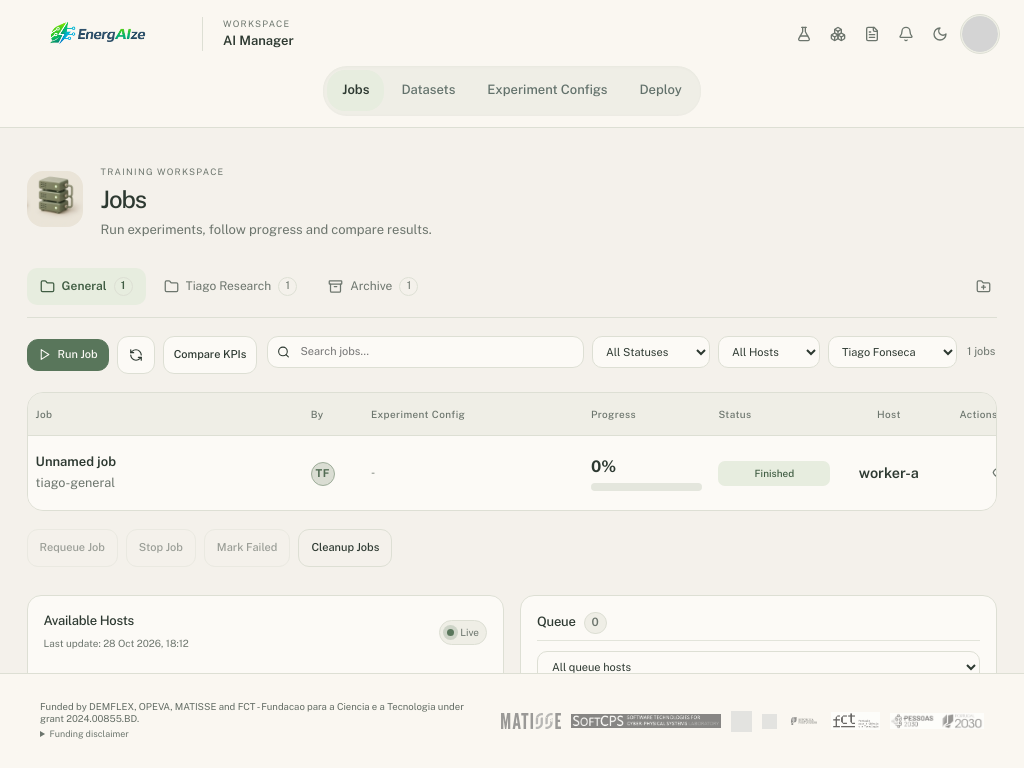
Test: App integration › switches General, Archive, and folders with the selected submitter
Expected: the button "Tiago Research 1" is shown, [150,268,310,305]
Expected: the button "Gustavo Research" is not shown
Select "All Submitters" in the dropdown named "Submitted by" at x=892, y=352, box [828,336,957,368]
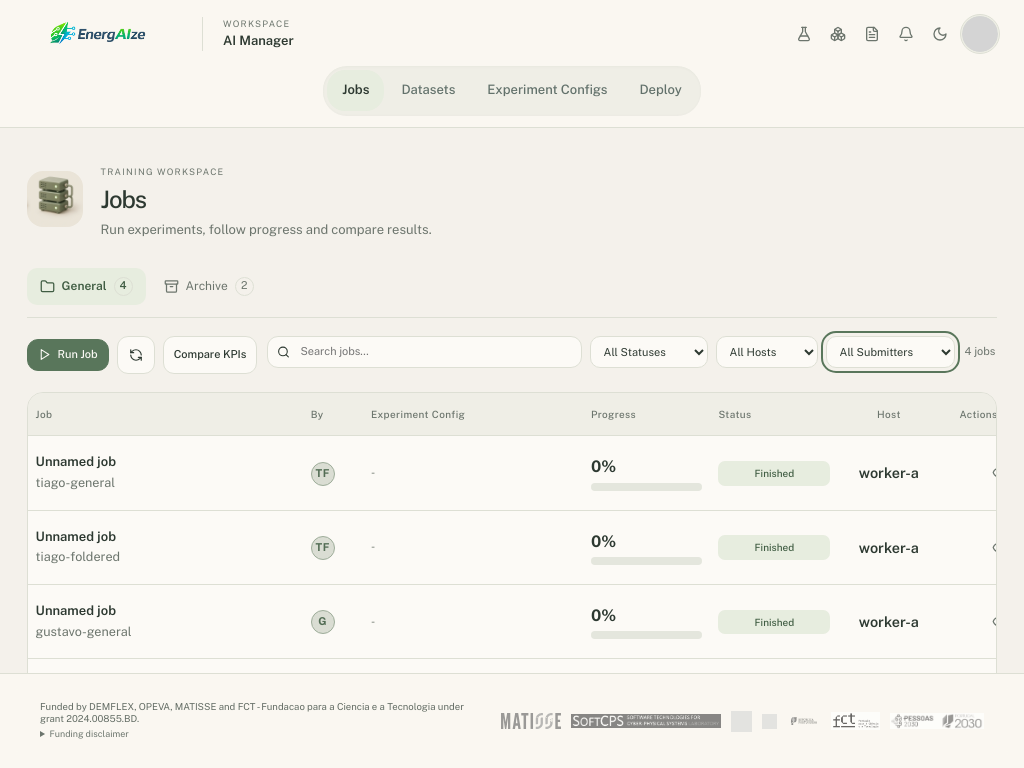
Expected: the button "Gustavo Research" is not shown
Now the button "Tiago Research" is gone
Now the text "tiago-foldered" is shown, box [36,549,120,564]
Select "Gustavo" in the dropdown named "Submitted by" at x=890, y=352, box [826,336,955,368]
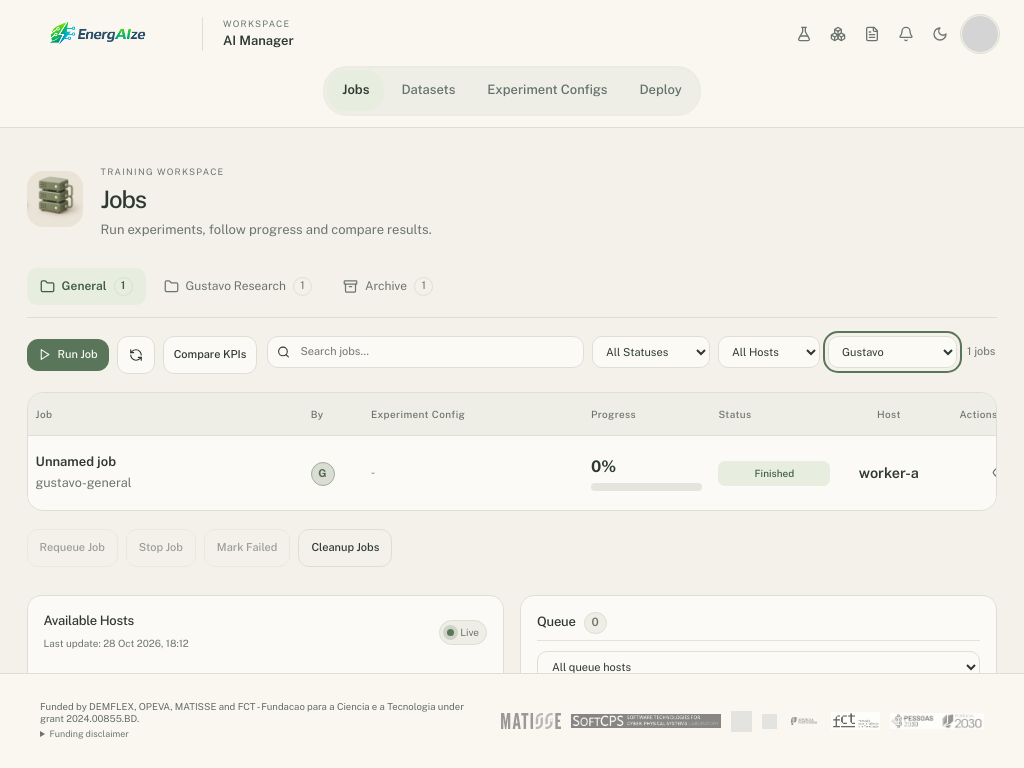
Now the text "gustavo-general" is shown, box [36,475,132,490]
Now the button "Gustavo Research 1" is shown, box [150,268,325,305]
Now the text "tiago-general" is gone
